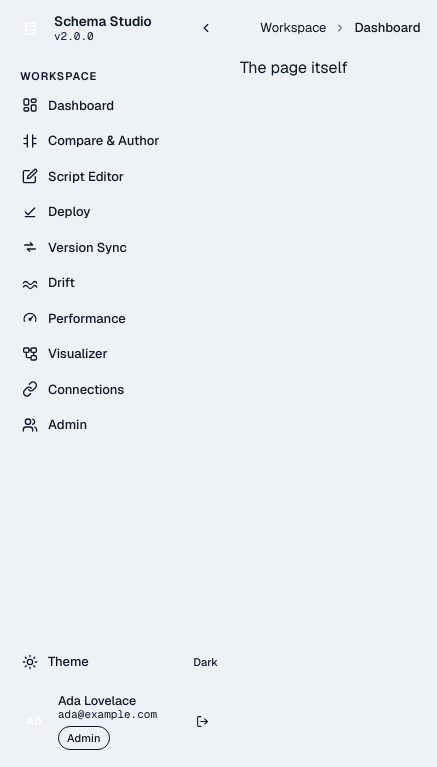
Test: a window with room for the rail › collapses and expands from the rail's own control
Click the button named "Collapse sidebar".
click(206, 28)  # box [188,15,224,41]
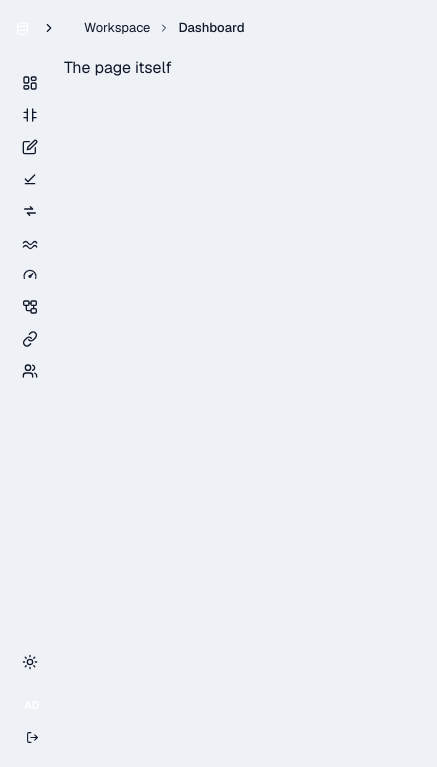
Click the button named "Expand sidebar".
click(32, 28)  # box [4,8,60,48]
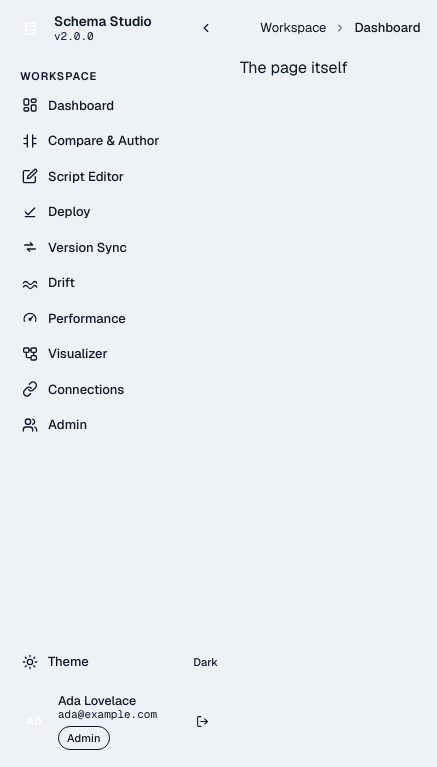
Now the button named "Collapse sidebar" is shown, box [188,15,224,41]
